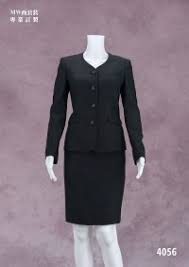F_tailored skirt: (57, 134, 128, 231)
